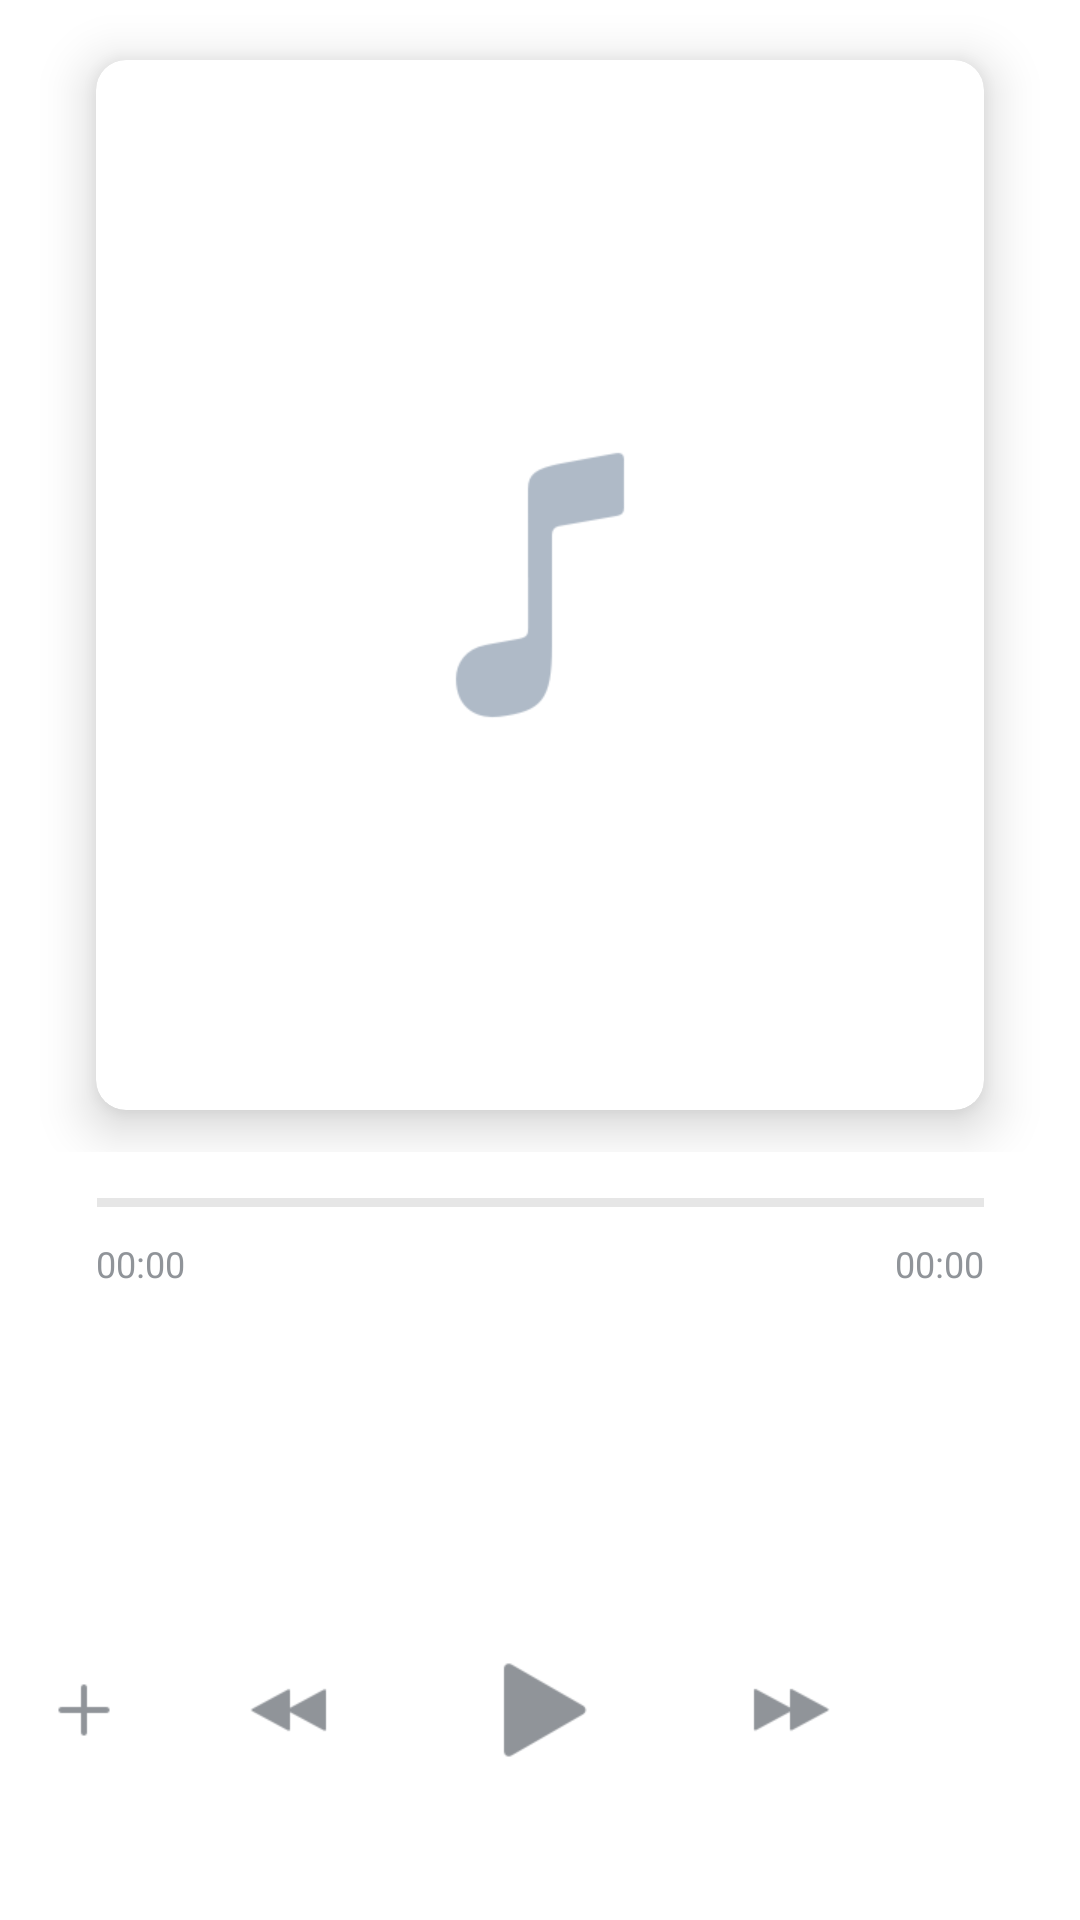

Where to tap for icons on this 1080*1920 app screen, as point (x, y):
add: point (84, 1710)
next: point (791, 1710)
play: point (545, 1710)
previous: point (288, 1710)
